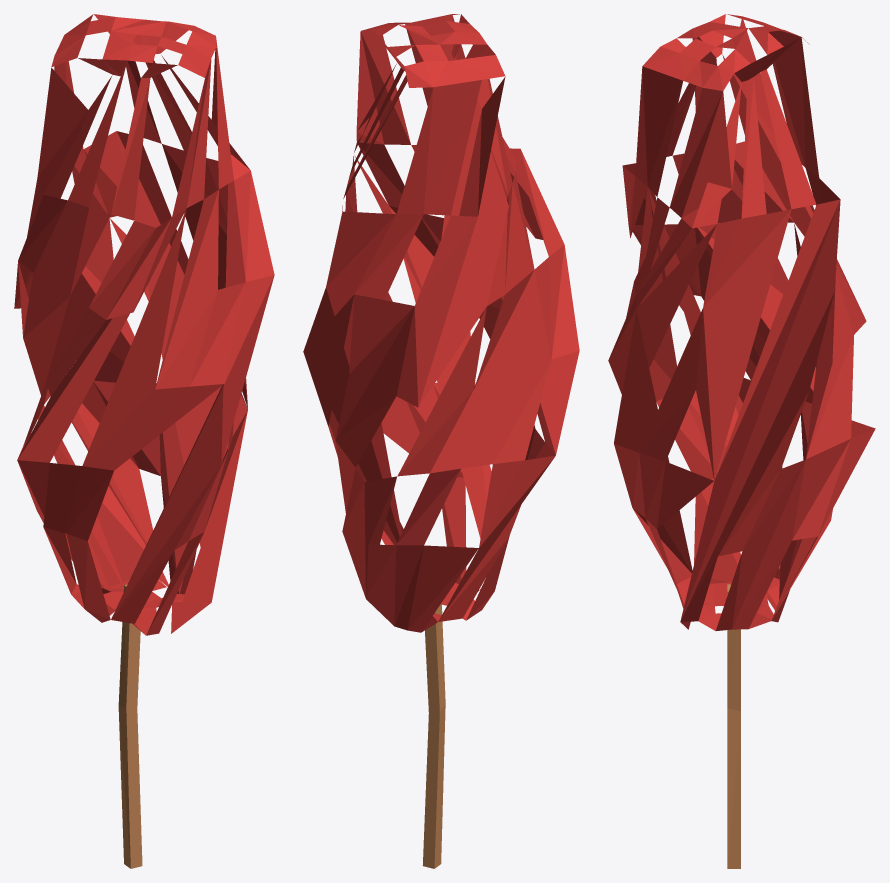
Rendered from world_3_tree_2.dae.
3 renders of one model, left to right at view 1: azimuth 30°, elevation 25°; view 2: azimuth 150°, elevation 25°; view 3: azimuth 270°, elevation 25°, orthographic.
Visible parts, largest first — view 1: world_3_tree_2_leaves, world_3_tree_2_base; view 2: world_3_tree_2_leaves, world_3_tree_2_base; view 3: world_3_tree_2_leaves, world_3_tree_2_base.
Boxes of the visible parts, bbox=[...] form: world_3_tree_2_leaves: bbox=[14, 14, 274, 635]; world_3_tree_2_base: bbox=[118, 584, 142, 868]; world_3_tree_2_leaves: bbox=[303, 14, 579, 632]; world_3_tree_2_base: bbox=[422, 604, 445, 868]; world_3_tree_2_leaves: bbox=[608, 14, 875, 630]; world_3_tree_2_base: bbox=[727, 584, 740, 868].
Size of the model in its own units: 1.47 by 1.52 by 5.23.
